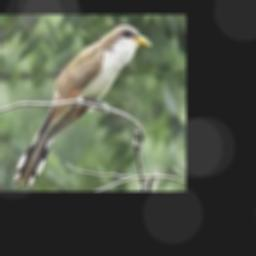Cuckoo: (13, 25, 150, 187)
